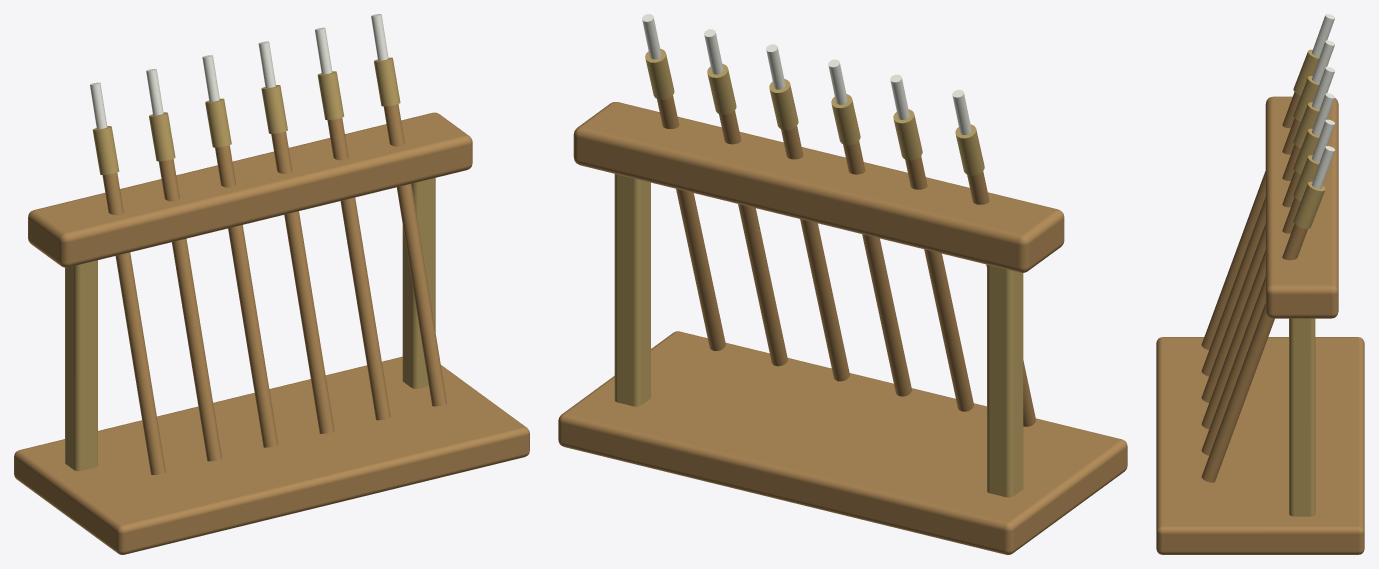
The model's file is abandoned-puppet-theatre-and-prop-vault-fine-brush-dry-e19e2544__31098.glb.
3 views of the same model, side by side, from view 1: azimuth 30°, elevation 25°; view 2: azimuth 150°, elevation 25°; view 3: azimuth 270°, elevation 25° (orthographic). The views are drawn at different scales.
Visible parts, largest first — view 1: fine-brush-drying-rack; view 2: fine-brush-drying-rack; view 3: fine-brush-drying-rack.
Boxes of the visible parts, x1,y1,x2,y2 form: fine-brush-drying-rack: (14,14,529,554); fine-brush-drying-rack: (558,14,1127,554); fine-brush-drying-rack: (1156,14,1364,554).
Size of the model in its own units: 0.44 by 0.4015 by 0.2.
